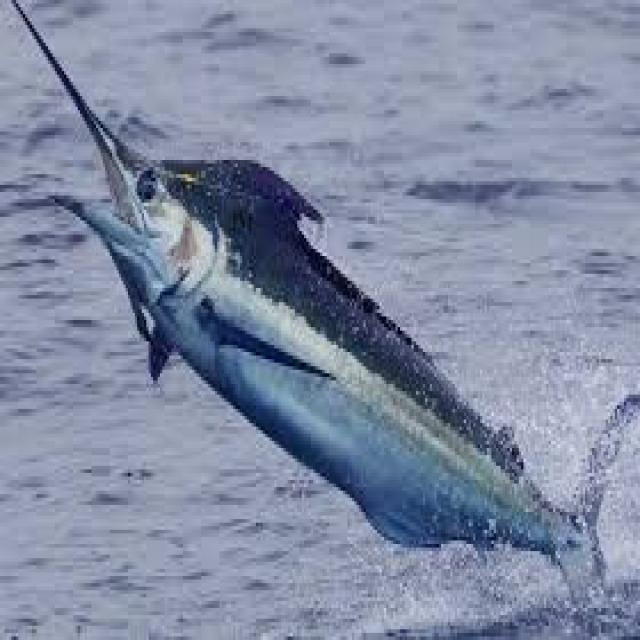Blue Marlin: (9, 4, 640, 612)
